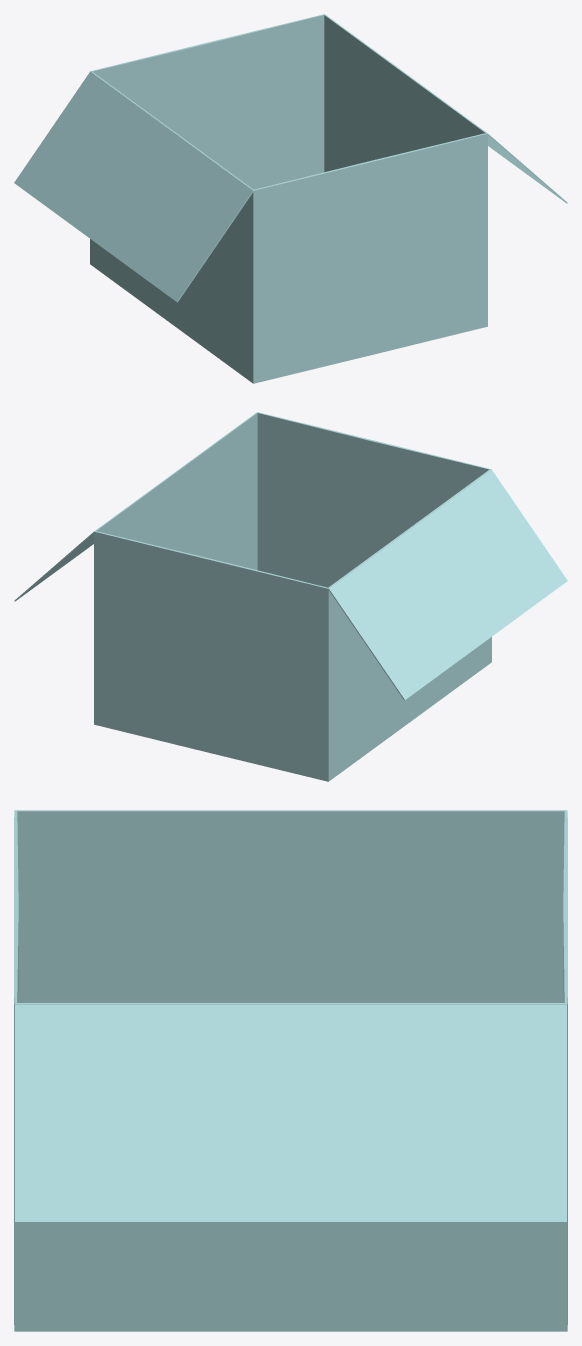
File: box_for_real.fbx
3 views of the same model, one above another, from view 1: azimuth 30°, elevation 25°; view 2: azimuth 150°, elevation 25°; view 3: azimuth 270°, elevation 25° (orthographic). The views are drawn at different scales.
Parts seen in each view (by area): view 1: Cube; view 2: Cube; view 3: Cube.
Boxes of the visible parts, x1,y1,x2,y2 form: Cube: [14, 14, 567, 383]; Cube: [14, 412, 567, 781]; Cube: [14, 810, 567, 1331].
Size of the model in its own units: 172 by 81.17 by 124.
